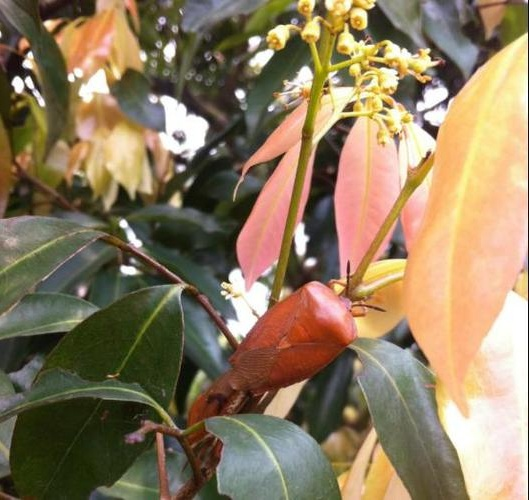Stink_Bug: (205, 273, 377, 396)
